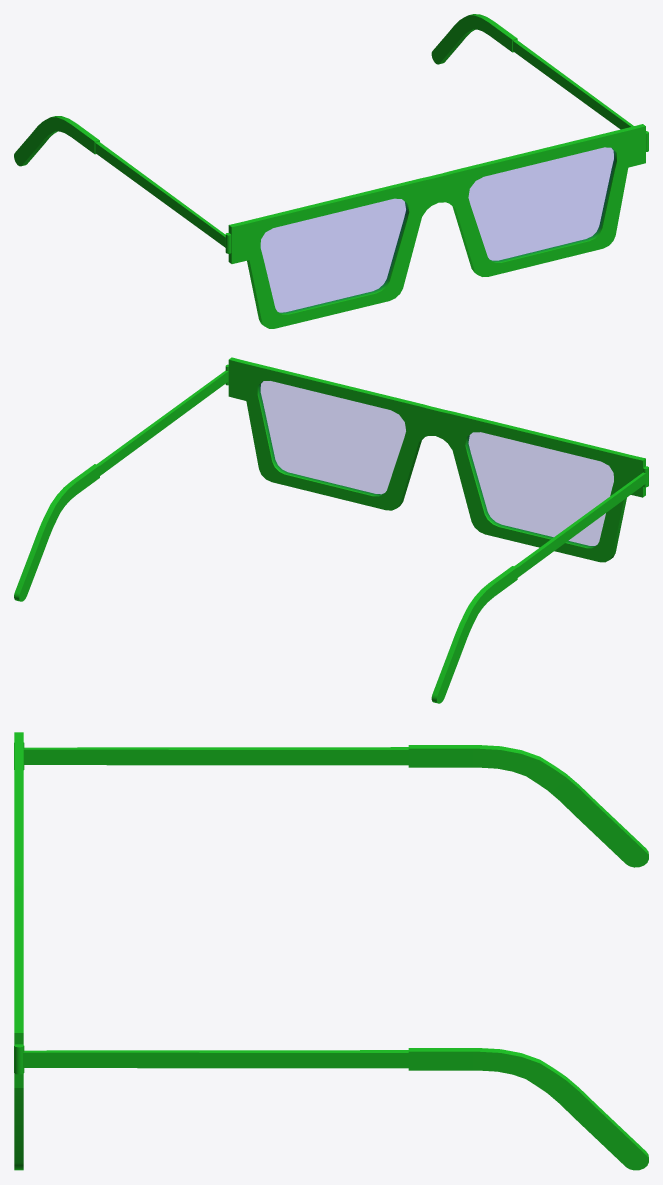
The model's file is glasses6.001.obj.
The picture shows the model from 3 angles, top to bottom: view 1: azimuth 30°, elevation 25°; view 2: azimuth 150°, elevation 25°; view 3: azimuth 270°, elevation 25°; orthographic projection. The views are drawn at different scales.
Visible parts, largest first — view 1: glasses6.001_glasses6.001_Base, glasses6.001_glasses6.001_Glass; view 2: glasses6.001_glasses6.001_Base, glasses6.001_glasses6.001_Glass; view 3: glasses6.001_glasses6.001_Base.
Boxes of the visible parts, <box> form: glasses6.001_glasses6.001_Base: <box>14,14,648,328</box>; glasses6.001_glasses6.001_Glass: <box>261,147,615,313</box>; glasses6.001_glasses6.001_Base: <box>14,357,648,703</box>; glasses6.001_glasses6.001_Glass: <box>259,381,613,546</box>; glasses6.001_glasses6.001_Base: <box>14,732,648,1170</box>.
Size of the model in its own units: 2.11 by 0.5343 by 1.84.
